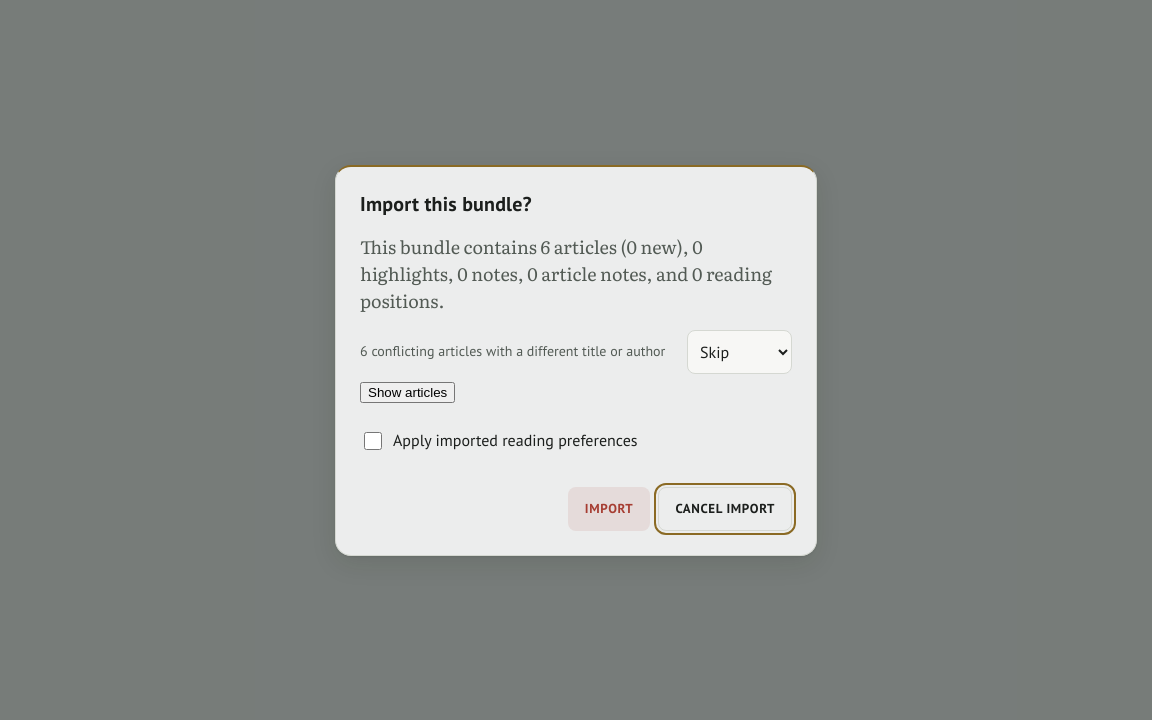
Test: ImportPreviewDialog — per-item metadata choice (17-04, D17-11) › expands to list EVERY conflicted article beyond the cap-5 samples, local and incoming names visible
What coordinates should you click on to do the following:
click the button "Show articles"
I would click on:
 (408, 392)
Its box is [360,382,455,402].
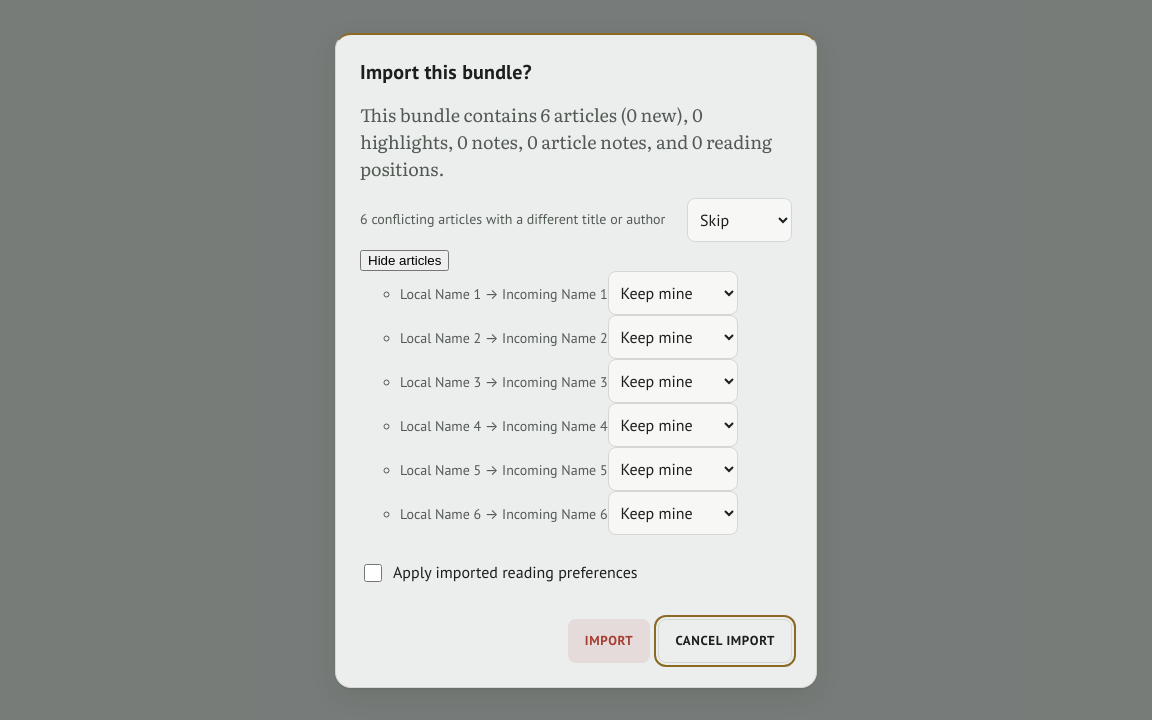
Result: the dropdown named "Import choice for Local Name 1" is shown at [608,270,738,314]
Result: the dropdown named "Import choice for Local Name 2" is shown at [608,314,738,358]
Result: the dropdown named "Import choice for Local Name 3" is shown at [608,358,738,402]
